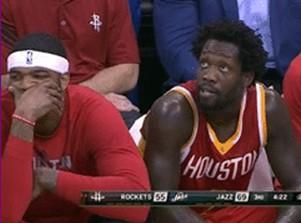face: (197, 41, 244, 106), (8, 61, 61, 117)
